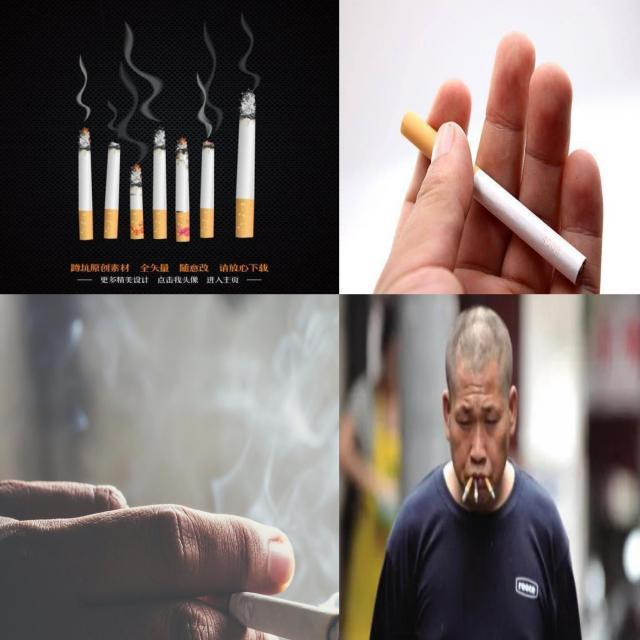cigarette: (399, 108, 586, 286), (186, 578, 339, 640), (236, 90, 256, 238), (78, 126, 94, 242), (152, 126, 168, 240), (174, 138, 191, 242), (104, 142, 122, 240), (200, 140, 214, 238), (130, 163, 145, 240), (484, 476, 496, 500), (462, 476, 472, 503), (474, 478, 478, 503)
